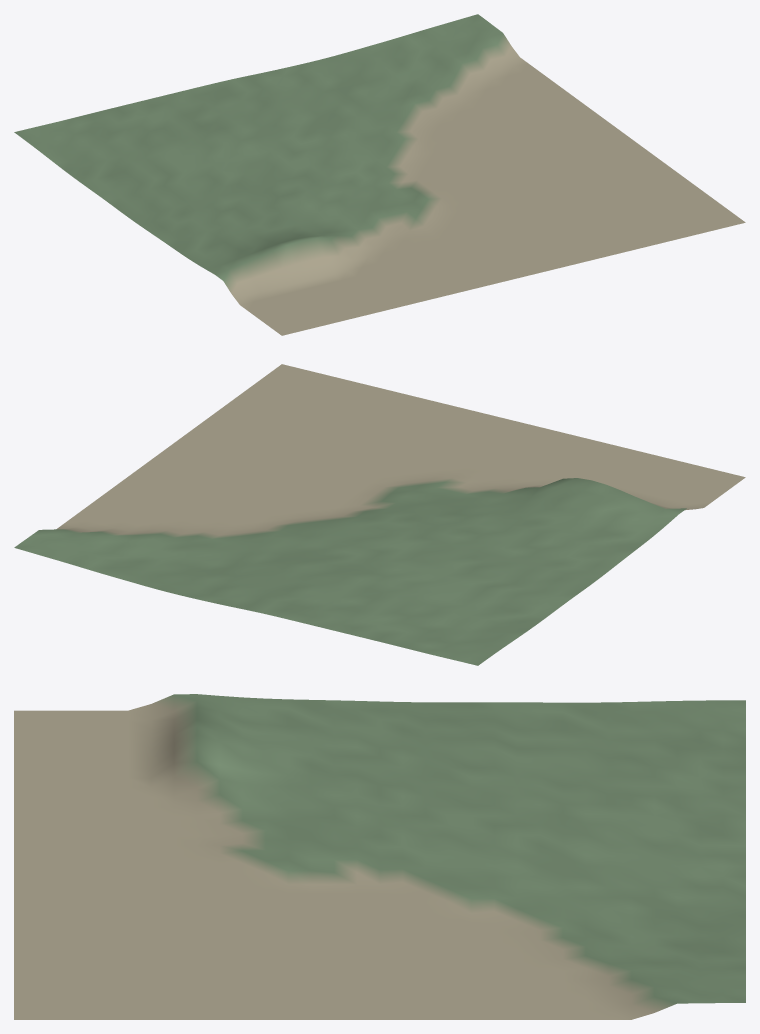
The picture shows the model from 3 angles, top to bottom: view 1: azimuth 30°, elevation 25°; view 2: azimuth 150°, elevation 25°; view 3: azimuth 270°, elevation 25°; orthographic projection. The views are drawn at different scales.
Visible parts, largest first — view 1: Terrain-col; view 2: Terrain-col; view 3: Terrain-col.
Part boxes in pixels (bbox=[...]): Terrain-col: bbox=[14, 14, 745, 335]; Terrain-col: bbox=[14, 364, 745, 665]; Terrain-col: bbox=[14, 694, 745, 1019].
Bounding box in the file's own units: 256 × 13.03 × 256.
